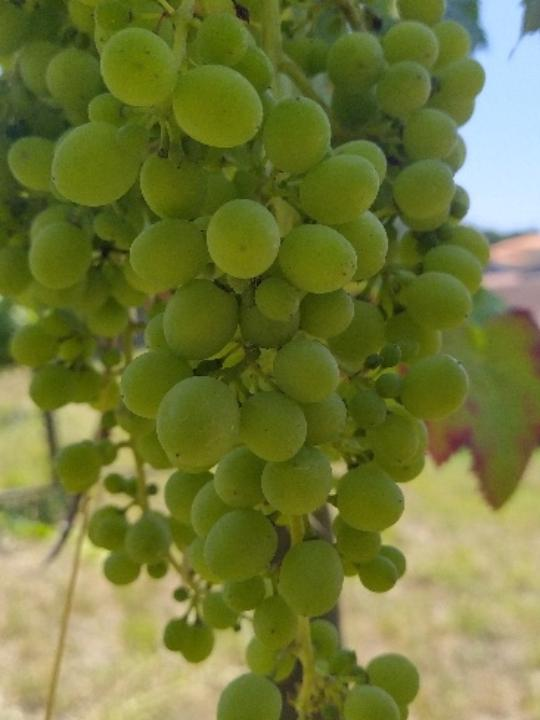grape: (0, 0, 496, 720)
